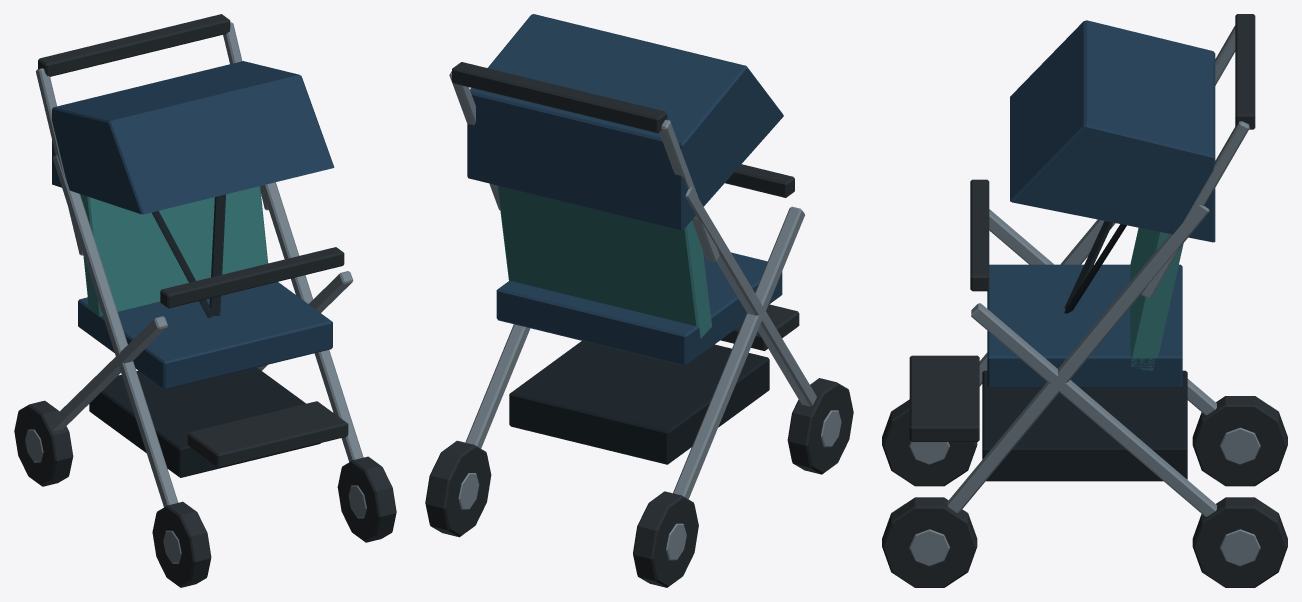
File: b17_folding_baby_stroller.glb
3 views of the same model, side by side, from view 1: azimuth 30°, elevation 25°; view 2: azimuth 150°, elevation 25°; view 3: azimuth 270°, elevation 25° (orthographic). The views are drawn at different scales.
Parts seen in each view (by area): view 1: b17_folding_baby_stroller; view 2: b17_folding_baby_stroller; view 3: b17_folding_baby_stroller.
Part boxes in pixels (box(x1,y1,x2,y2)): b17_folding_baby_stroller: box(14, 14, 396, 587); b17_folding_baby_stroller: box(425, 14, 853, 587); b17_folding_baby_stroller: box(882, 14, 1287, 587).
Bounding box in the file's own units: 0.5328 × 1.03 × 0.81.
